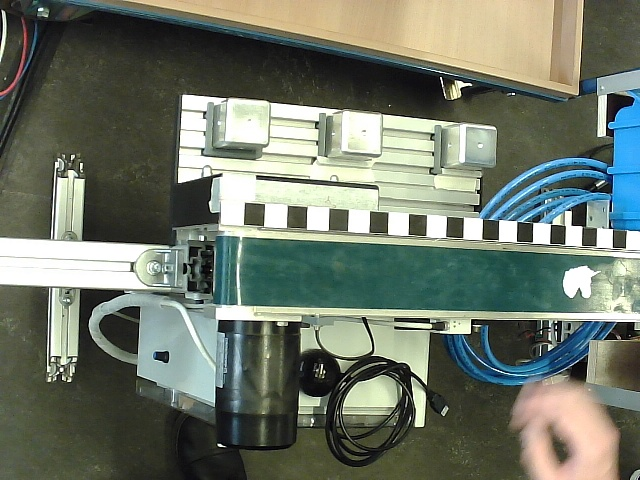unicorn: (561, 264, 602, 299)
